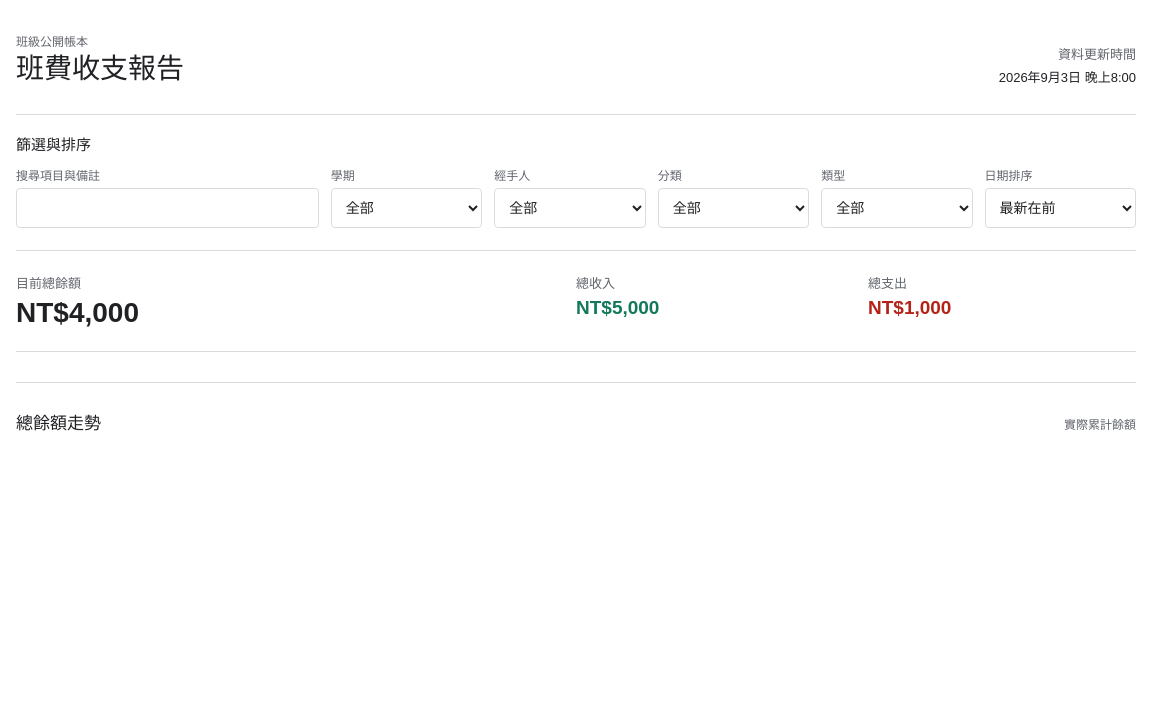
Test: ReportApp › shows a zero opening balance before first-semester transactions
The width and height of the screenshot is (1152, 720).
Select "第一學期" in the dropdown labelled "學期" at (406, 208), box x1=331 y1=188 x2=482 y2=228
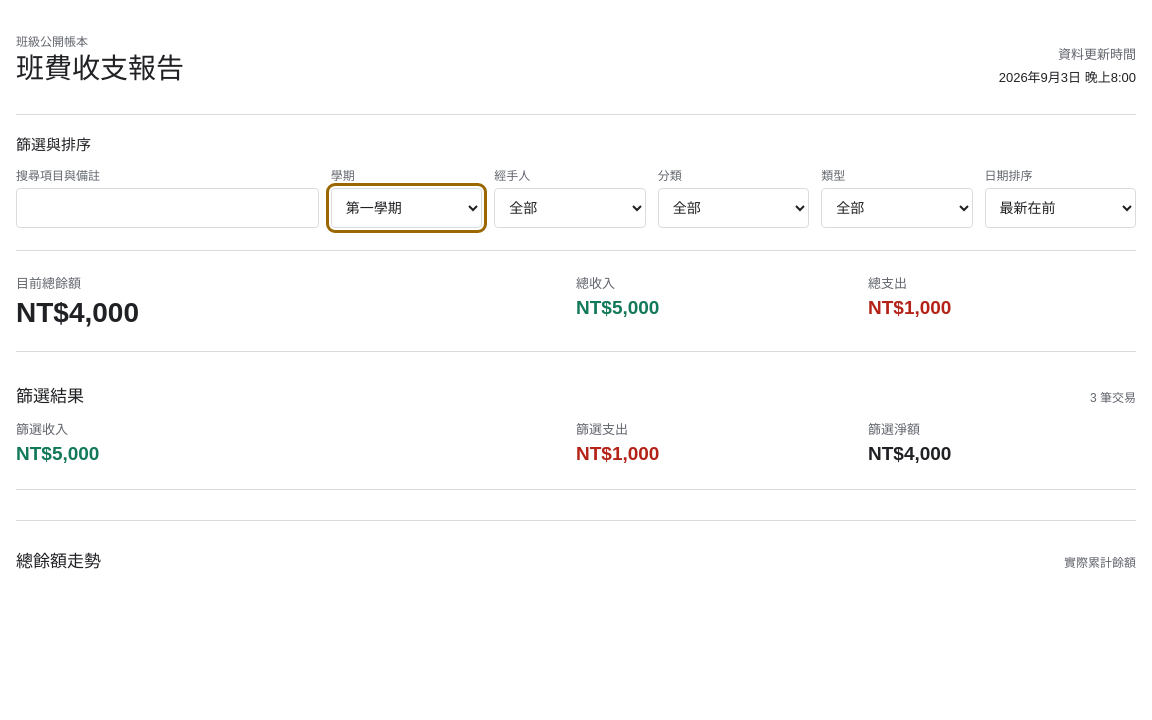
Expected: the text "3 筆交易" is shown, x1=1090 y1=388 x2=1136 y2=405
